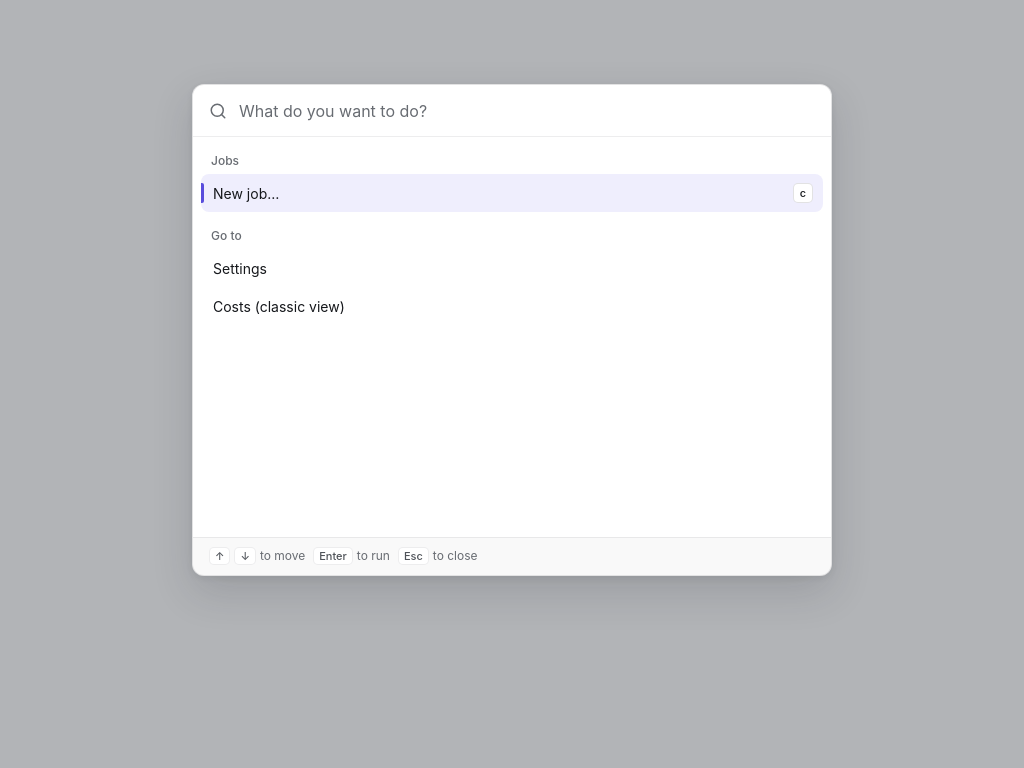
Test: CommandPalette › says so when nothing matches
Type "nothing like this" into the dropdown named "Search actions". click: point(527, 111)
box: left=239, top=86, right=815, bottom=136
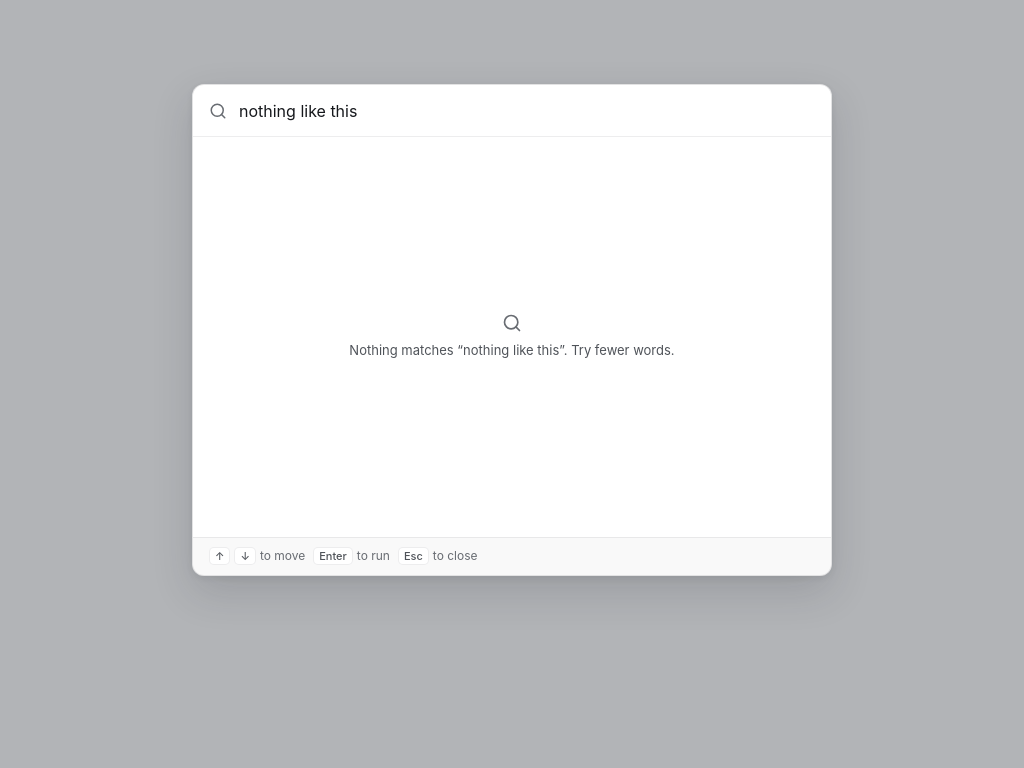
Check: no options are shown
Check: the message shows "Nothing matches", box left=349, top=342, right=463, bottom=358
